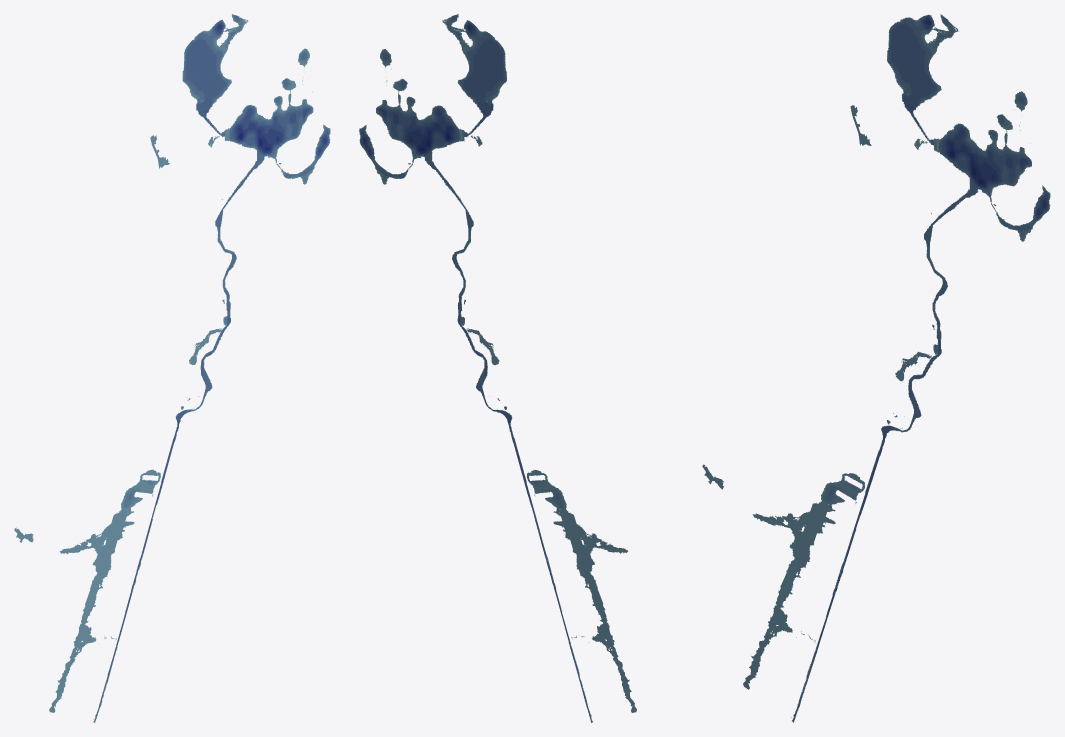
The model's file is triangle_mesh.glb.
The picture shows the model from 3 angles, left to right: view 1: azimuth 30°, elevation 25°; view 2: azimuth 150°, elevation 25°; view 3: azimuth 330°, elevation 25°; orthographic projection. The views are drawn at different scales.
Visible parts, largest first — view 1: world; view 2: world; view 3: world.
Part boxes in pixels (box(x1,y1,x2,y2)): world: box(14, 14, 330, 722); world: box(359, 14, 636, 722); world: box(702, 14, 1050, 722).
Size of the model in its own units: 1339 by 2739 by 16.13.
